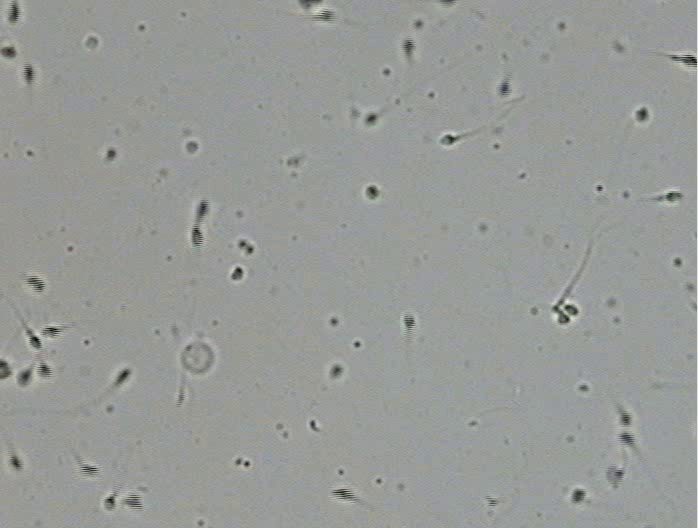Impurity: (180, 343, 214, 374), (85, 35, 98, 48)
S: (25, 275, 46, 294), (25, 329, 42, 351), (331, 488, 357, 502), (6, 1, 21, 25), (606, 466, 624, 485), (124, 494, 143, 511), (191, 224, 204, 248), (195, 199, 209, 221), (617, 431, 636, 447), (677, 53, 697, 68), (36, 361, 52, 379), (115, 368, 131, 385), (17, 368, 32, 386), (79, 464, 98, 478), (22, 62, 34, 84), (40, 326, 62, 338), (8, 454, 23, 471), (315, 9, 334, 22), (403, 313, 416, 331), (1, 358, 12, 379), (571, 488, 586, 503), (497, 80, 511, 96), (401, 38, 414, 55), (230, 266, 244, 281), (635, 106, 649, 121), (664, 191, 683, 202), (439, 134, 456, 146), (1, 46, 17, 58), (103, 495, 115, 511), (365, 185, 378, 199), (619, 411, 631, 426), (564, 304, 579, 316), (186, 141, 199, 154), (105, 147, 117, 160), (330, 365, 343, 377), (298, 1, 316, 9), (364, 113, 377, 124), (558, 313, 570, 323)
